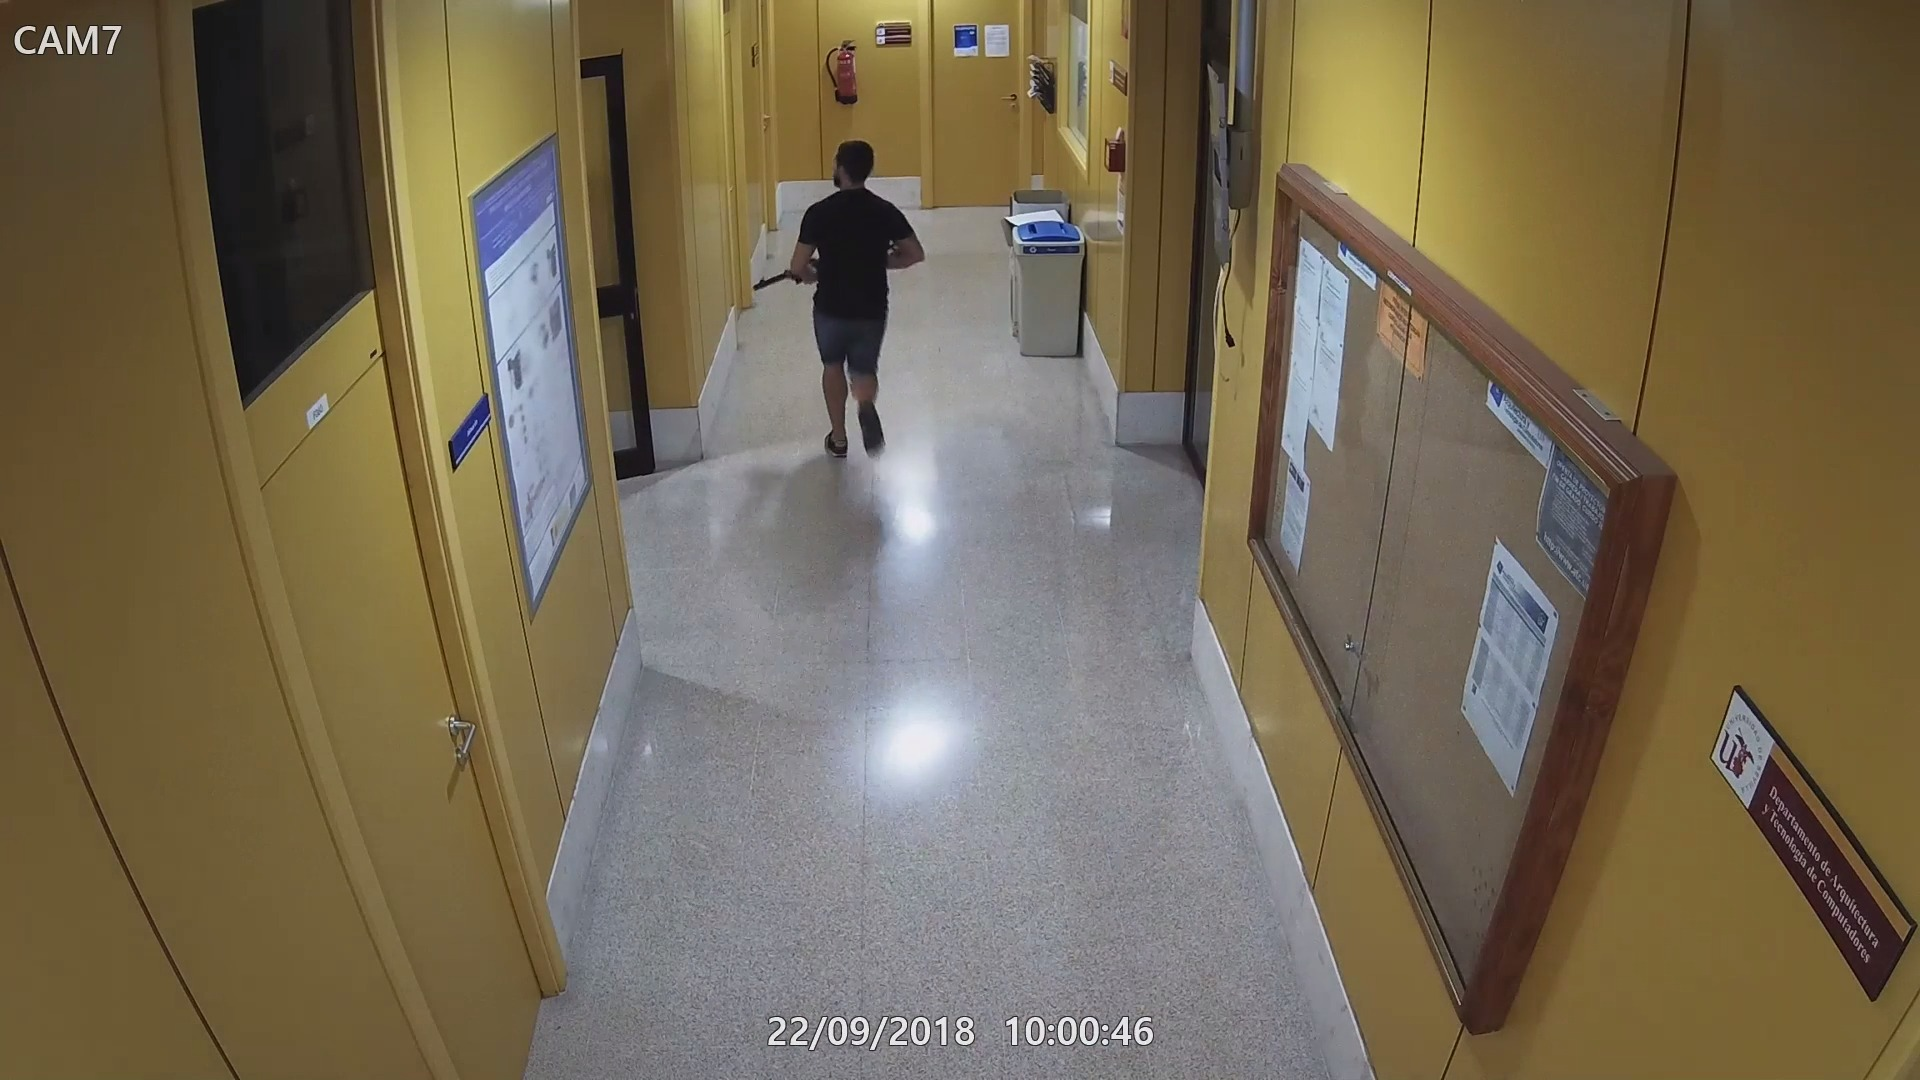Short_rifle: (745, 253, 815, 289)
